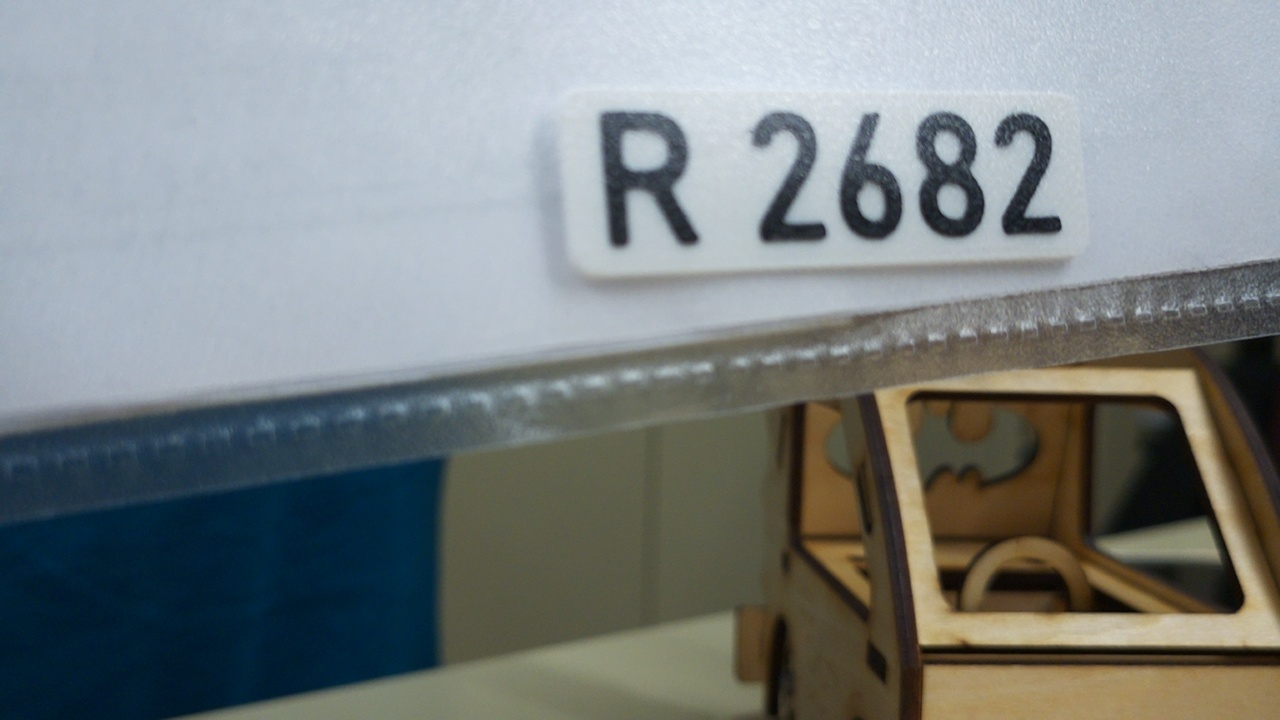license_plate: (551, 75, 1093, 285)
